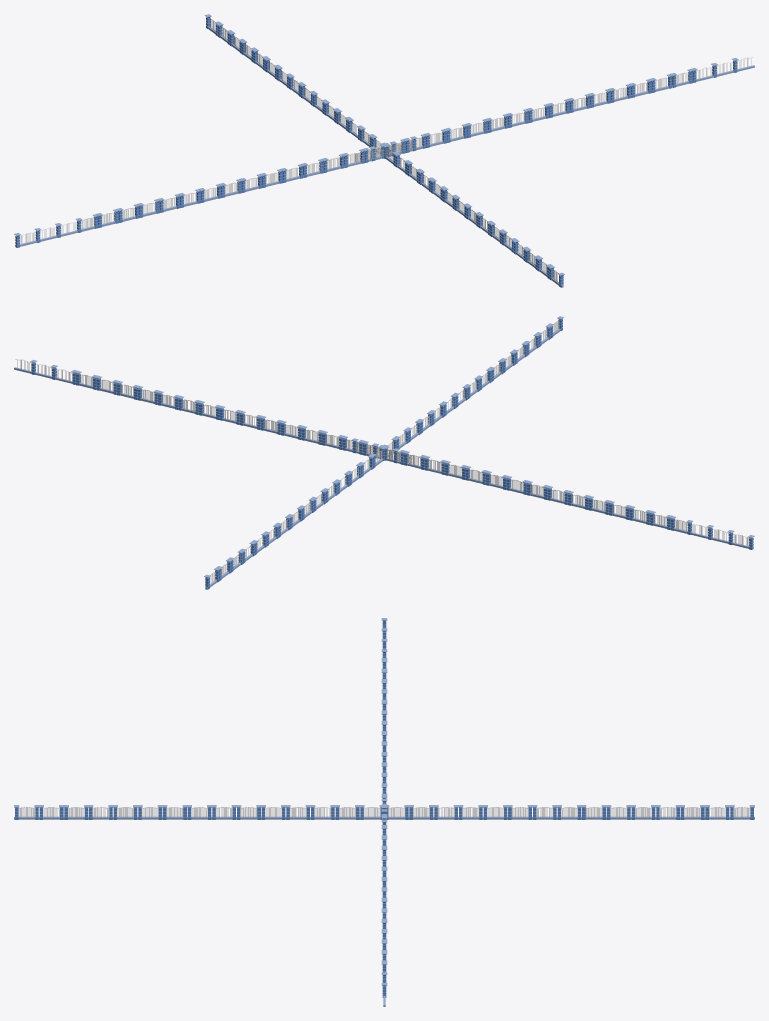
Rendered from gc_fence.glb.
3 renders of one model, top to bottom at view 1: azimuth 30°, elevation 25°; view 2: azimuth 150°, elevation 25°; view 3: azimuth 270°, elevation 25°, orthographic. The views are drawn at different scales.
Parts seen in each view (by area): view 1: 围栏.001, 围栏.003, 围栏.002, 围栏.004; view 2: 围栏.003, 围栏.001, 围栏.002, 围栏.004; view 3: 围栏.004, 围栏.002, 围栏.003.
Boxes of the visible parts, x1=… form: 围栏.001: x1=77, y1=69, x2=692, y2=232; 围栏.003: x1=14, y1=57, x2=754, y2=247; 围栏.002: x1=208, y1=18, x2=564, y2=287; 围栏.004: x1=205, y1=14, x2=563, y2=287; 围栏.003: x1=14, y1=359, x2=754, y2=549; 围栏.001: x1=76, y1=371, x2=691, y2=532; 围栏.002: x1=205, y1=316, x2=563, y2=589; 围栏.004: x1=204, y1=320, x2=560, y2=589; 围栏.004: x1=14, y1=805, x2=754, y2=819; 围栏.002: x1=14, y1=805, x2=754, y2=819; 围栏.003: x1=381, y1=618, x2=387, y2=1006.
Bounding box in the file's own units: 1809373 × 30040 × 1508252.
